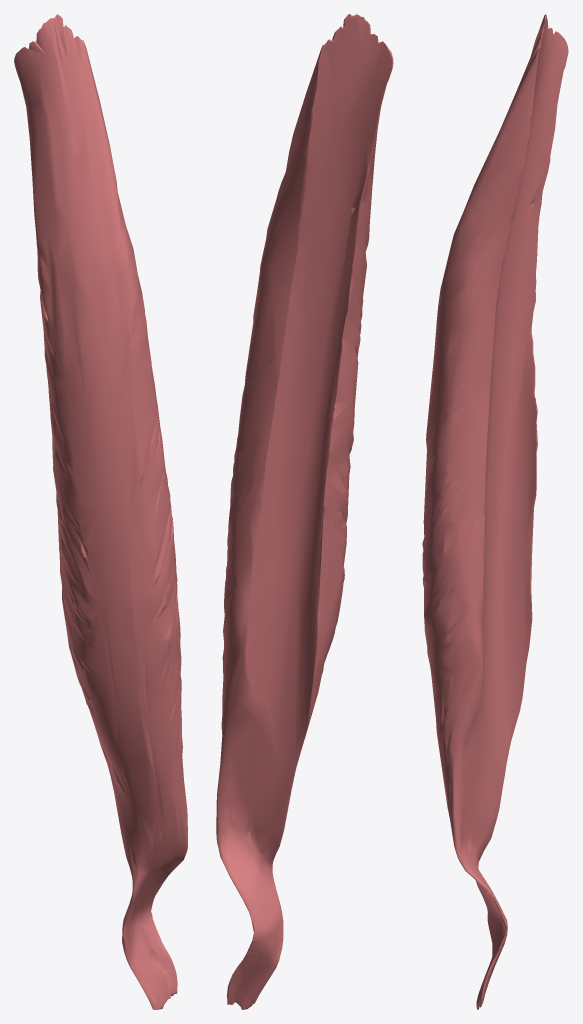
3 views of the same model, side by side, from view 1: azimuth 30°, elevation 25°; view 2: azimuth 210°, elevation 25°; view 3: azimuth 270°, elevation 25° (orthographic). The views are drawn at different scales.
Visible parts, largest first — view 1: FJ1441; view 2: FJ1441; view 3: FJ1441.
Boxes of the visible parts, x1,y1,x2,y2 form: FJ1441: (14, 14, 187, 1009); FJ1441: (216, 14, 393, 1009); FJ1441: (422, 14, 568, 1009).
Bounding box in the file's own units: 0.0566 × 0.425 × 0.0586.
